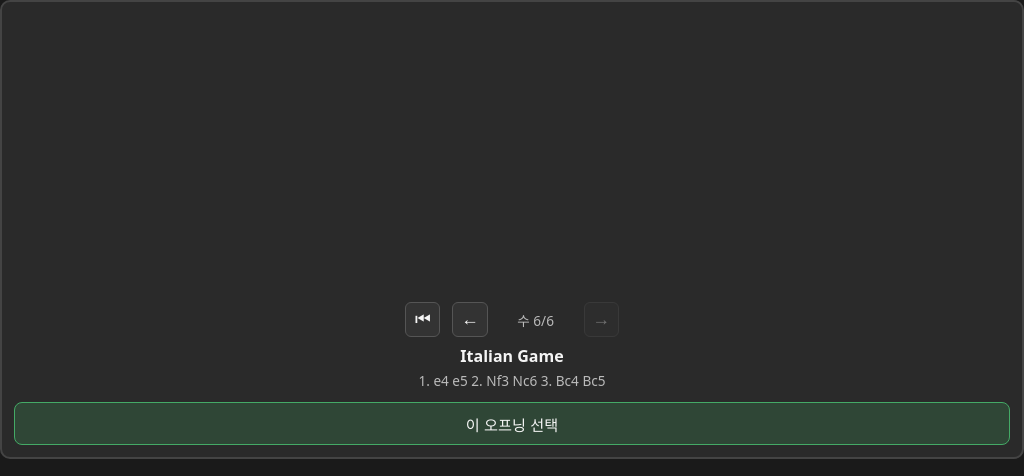
it: OpeningCard › jumps to the start position with the reset button
This screenshot has width=1024, height=476.
Step 1. Click the button named "처음 포지션" → (423,320), box [405,302,440,337]
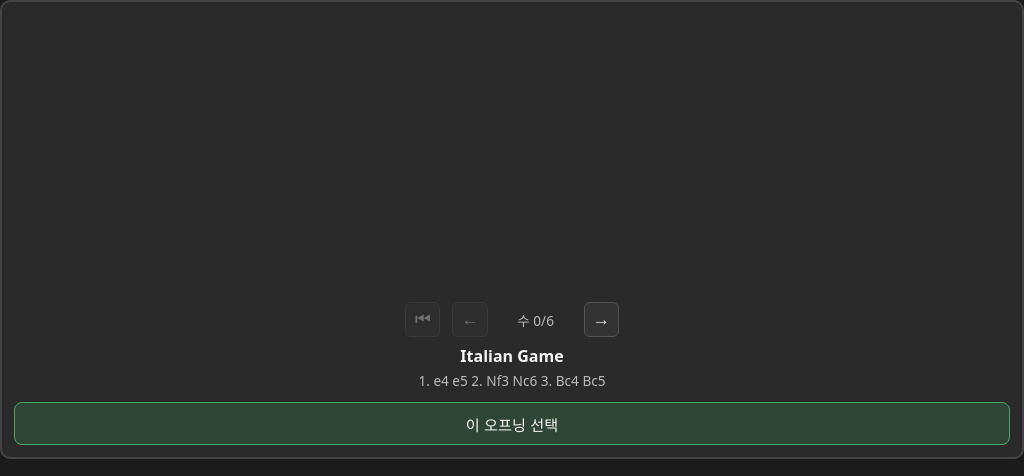
Expected: the button named "이전 수" is disabled, [452,302,488,337]
Expected: the text "수 0/6" is shown, [517,311,554,330]
Expected: the button named "처음 포지션" is disabled, [405,302,440,337]
